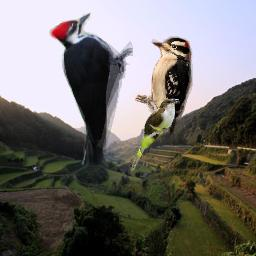Cuckoo: (130, 98, 179, 171)
Woodpecker: (47, 12, 133, 165), (134, 35, 193, 135)
